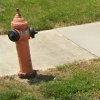a fire hydrant: (12, 13, 36, 76)
